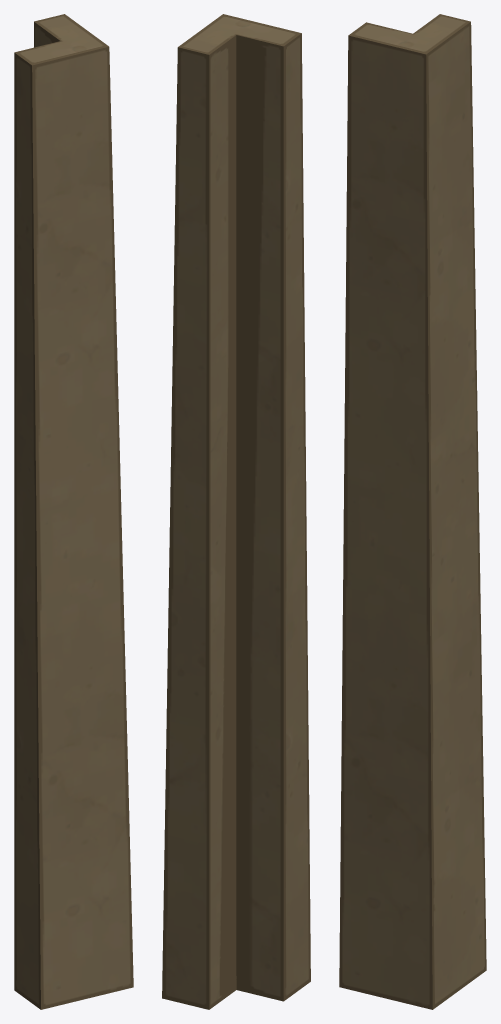
File: SM_building_column_01.glb
3 views of the same model, side by side, from view 1: azimuth 30°, elevation 25°; view 2: azimuth 150°, elevation 25°; view 3: azimuth 330°, elevation 25° (orthographic).
Visible parts, largest first — view 1: SM_building_column_01; view 2: SM_building_column_01; view 3: SM_building_column_01.
Part boxes in pixels (<box>): SM_building_column_01: <box>14,14,133,1009</box>; SM_building_column_01: <box>162,14,310,1009</box>; SM_building_column_01: <box>339,14,486,1009</box>.
Bounding box in the file's own units: 0.3 × 2.9 × 0.3.
1 material, 1 textured.
